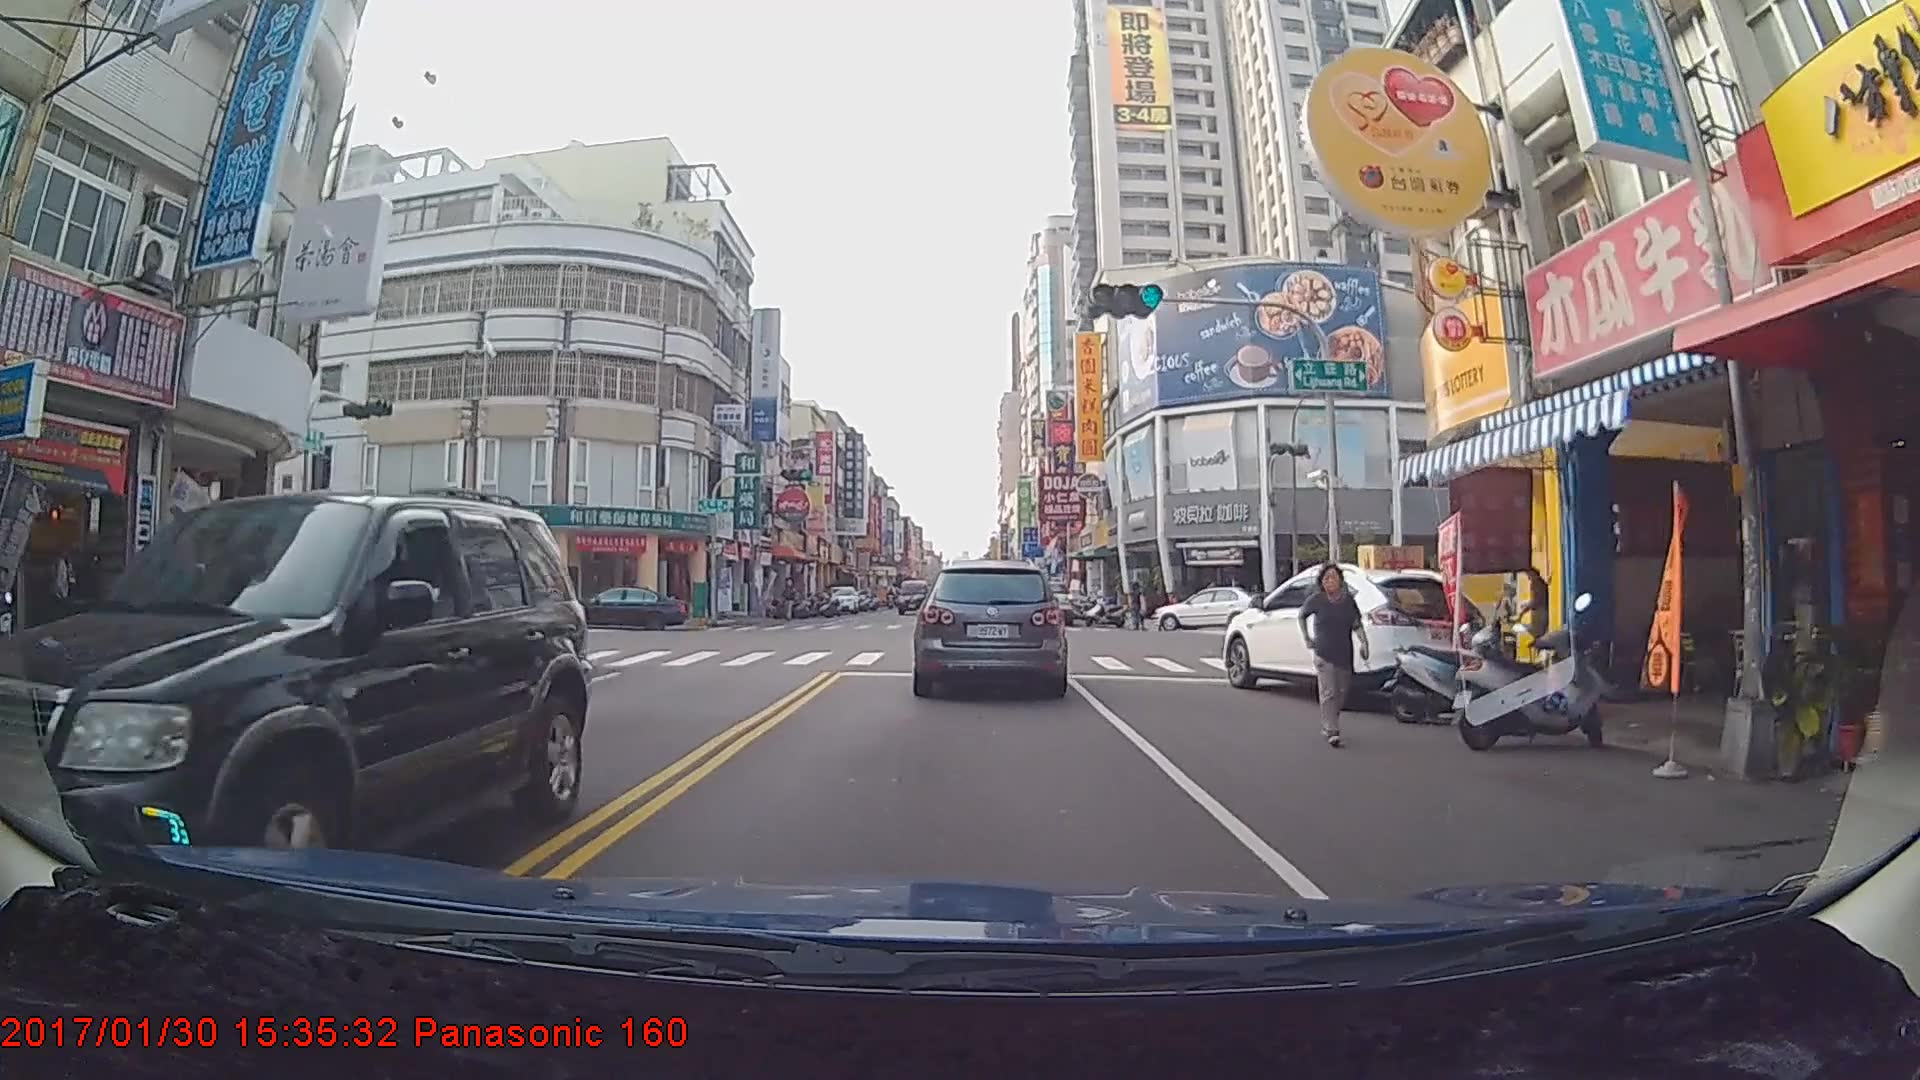pedestrian: (1304, 560, 1373, 748)
vehicle: (24, 491, 589, 925), (1221, 562, 1487, 709), (914, 559, 1065, 697), (552, 584, 687, 633), (1148, 585, 1275, 631), (894, 581, 930, 616), (820, 586, 860, 614)
